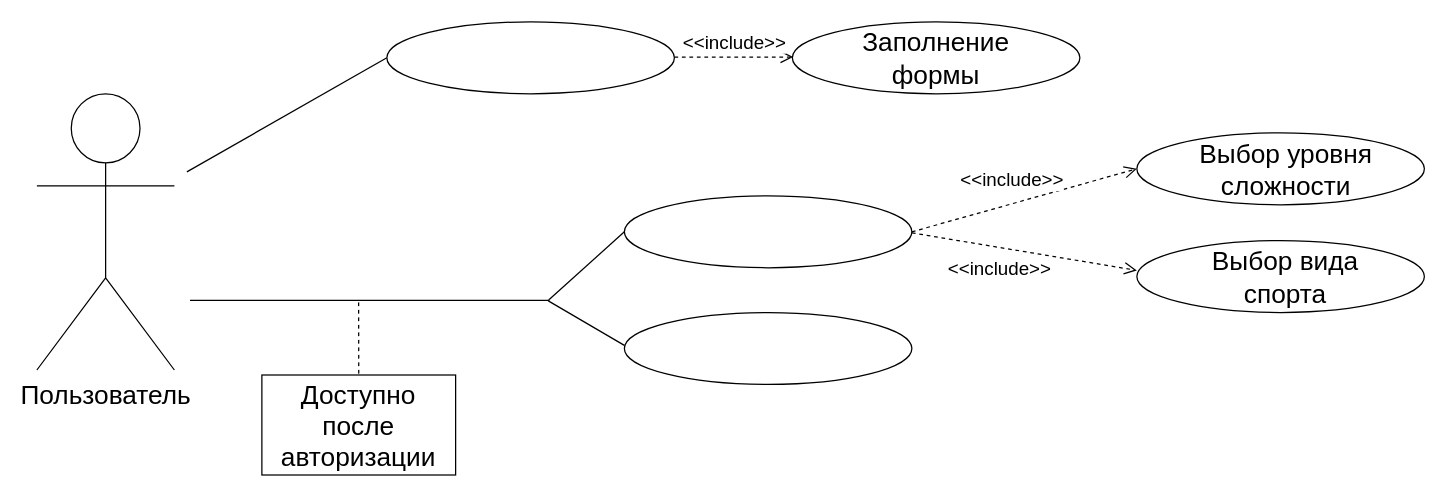
Image size: 1446x498. Some labels were removed from this diagram. The shapes that lost their labels are listed below. From the top down, each one's centre as x and y in pixels, then its label:
At (530,57): "Авторизация".
At (767,231): "Прохождение теста".
At (767,347): "Таблица результатов".
